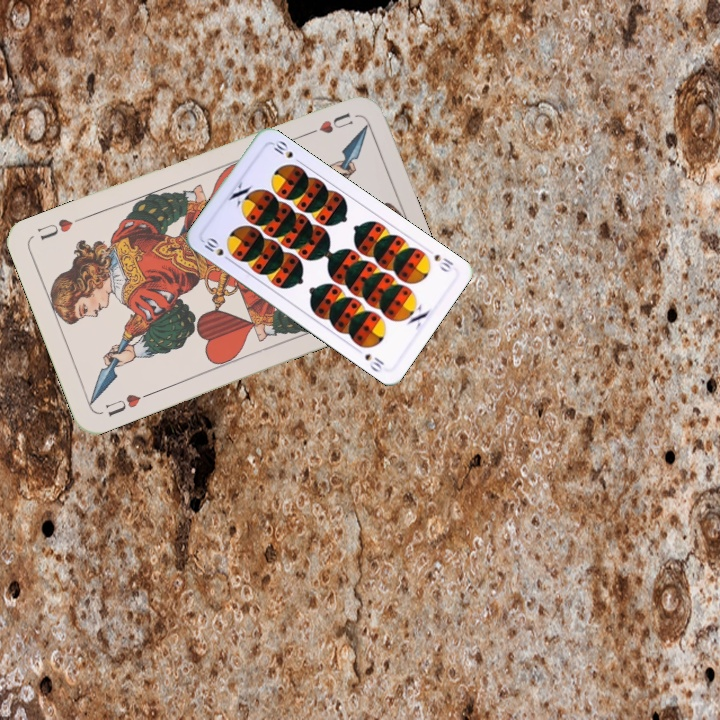HU: (301, 108, 356, 139), (101, 388, 154, 420)
S10: (200, 234, 234, 265), (430, 250, 456, 275)
